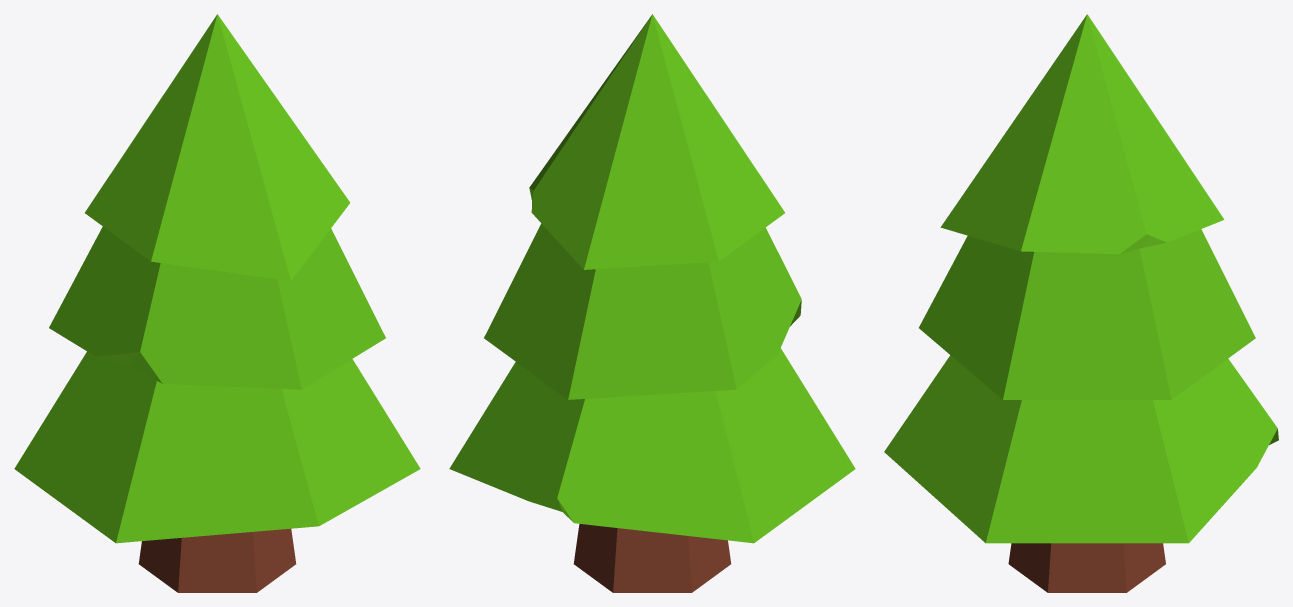
The model's file is Tree.obj.
The picture shows the model from 3 angles, left to right: view 1: azimuth 30°, elevation 25°; view 2: azimuth 150°, elevation 25°; view 3: azimuth 270°, elevation 25°; orthographic projection.
Parts seen in each view (by area): view 1: Tree_Cylinder; view 2: Tree_Cylinder; view 3: Tree_Cylinder.
Boxes of the visible parts, box(x1,y1,x2,y2) form: Tree_Cylinder: box(14, 14, 420, 592); Tree_Cylinder: box(449, 14, 855, 592); Tree_Cylinder: box(884, 14, 1278, 592).
Size of the model in its own units: 0.3241 by 0.5589 by 0.3636.
